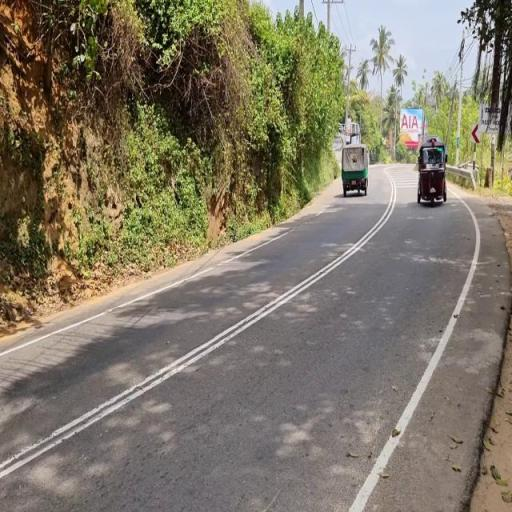double_white_line: (0, 168, 397, 486)
